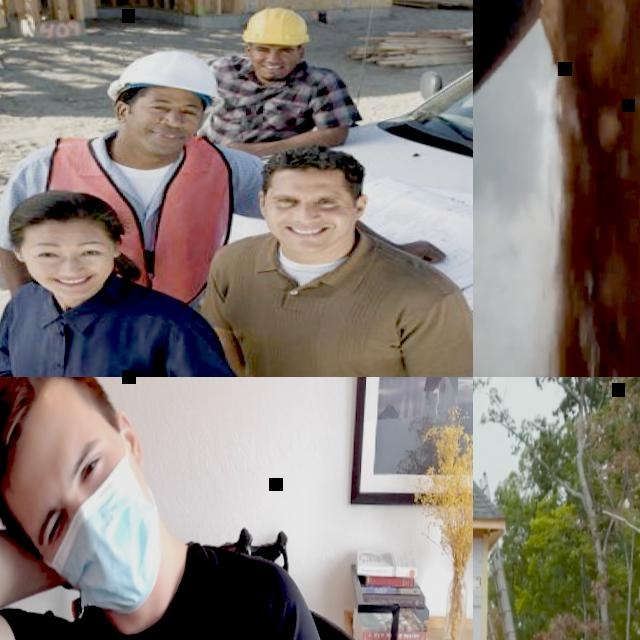Hardhat: (0, 377, 63, 524), (108, 45, 228, 115), (239, 2, 317, 47)
Mask: (38, 425, 166, 618)
NO-Hardhat: (8, 190, 120, 233), (250, 147, 366, 182)
NO-Mask: (114, 118, 190, 160), (34, 261, 108, 303), (268, 215, 345, 253), (245, 57, 299, 81)
NO-Safety Vest: (206, 245, 433, 377), (33, 538, 288, 640), (0, 287, 199, 377), (205, 58, 325, 157)
Person: (0, 377, 376, 640), (0, 38, 271, 317), (183, 143, 473, 377), (0, 185, 251, 377), (198, 0, 364, 160)
Safety Vest: (32, 134, 232, 301)
machinery: (473, 0, 640, 197)
vehicle: (196, 0, 473, 377)
